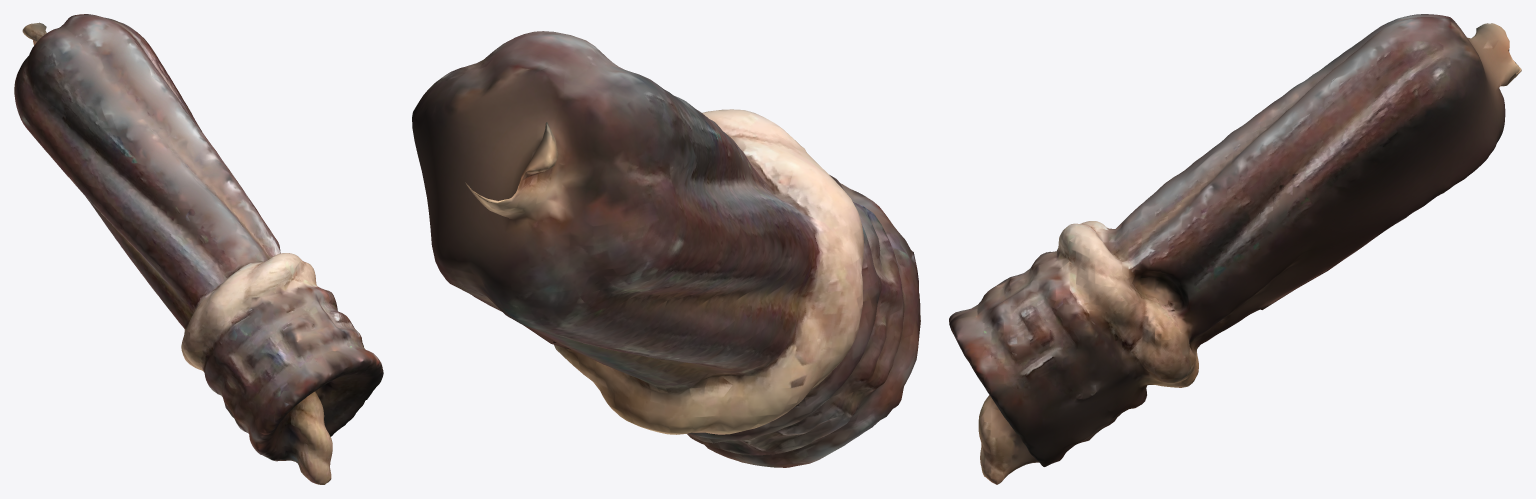
3 views of the same model, side by side, from view 1: azimuth 30°, elevation 25°; view 2: azimuth 150°, elevation 25°; view 3: azimuth 270°, elevation 25° (orthographic). The views are drawn at different scales.
Visible parts, largest first — view 1: node0; view 2: node0; view 3: node0.
Part boxes in pixels (x1,y1,x2,y2): node0: (14,14,383,484); node0: (412,31,920,467); node0: (949,14,1521,484).
Size of the model in its own units: 20.11 by 35.74 by 43.5.
1 material, 1 textured.
